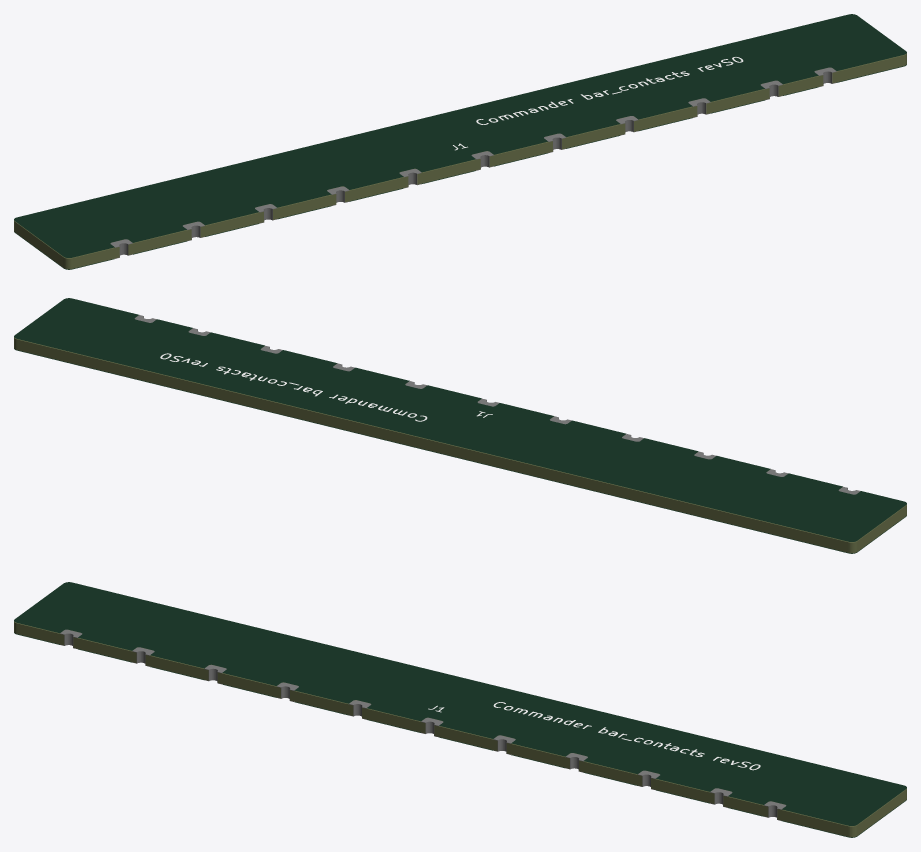
The model's file is commander_bar_contacts.dae.
The picture shows the model from 3 angles, top to bottom: view 1: azimuth 30°, elevation 25°; view 2: azimuth 150°, elevation 25°; view 3: azimuth 330°, elevation 25°; orthographic projection.
Visible parts, largest first — view 1: part_01, part_02, part_03, part_06; view 2: part_01, part_02, part_03, part_06; view 3: part_01, part_02, part_03, part_06.
Boxes of the visible parts, x1,y1,x2,y2 form: part_01: (14, 14, 906, 269); part_02: (14, 53, 906, 269); part_03: (110, 67, 836, 258); part_06: (453, 57, 743, 150); part_01: (14, 298, 906, 553); part_02: (14, 337, 906, 553); part_03: (134, 315, 860, 494); part_06: (160, 353, 492, 421); part_01: (14, 582, 906, 837); part_02: (14, 621, 906, 837); part_03: (60, 629, 786, 820); part_06: (428, 702, 760, 770).
Bounding box in the file's own units: 75.8 × 8.6 × 1.42.
